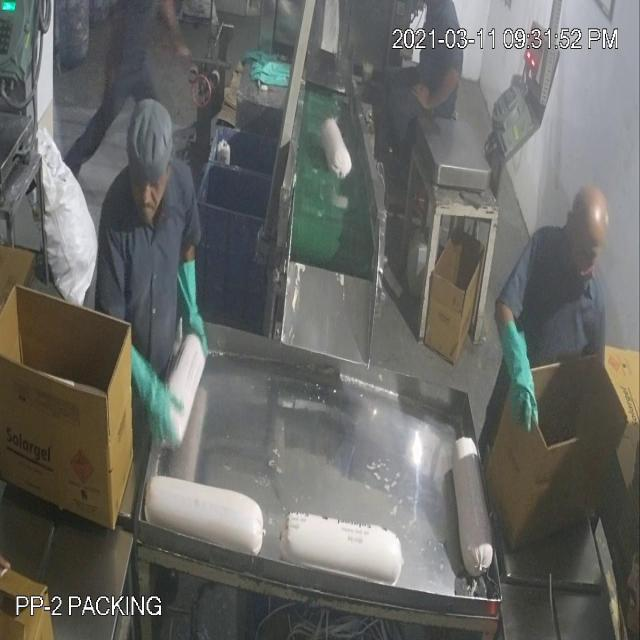gloves: (166, 249, 213, 360), (501, 309, 537, 442)
no-gloves: (410, 64, 466, 123), (163, 1, 203, 72)
